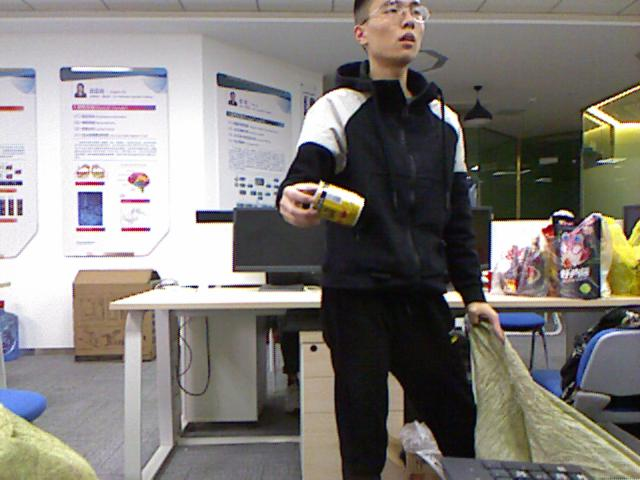metal: (311, 181, 363, 226)
